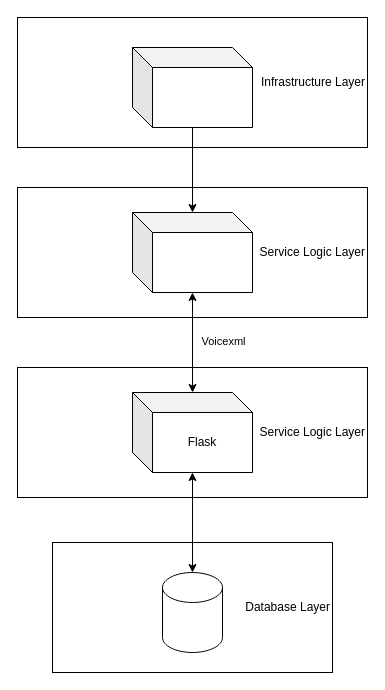
Image size: 385x690. Some labels were removed from this diagram. Here are the shapes that lost their labels. From the top down, the centre of each, then its label:
At [192,87]: "Phone System".
At [192,252]: "UserInterface".
At [192,612]: "SQLite".
